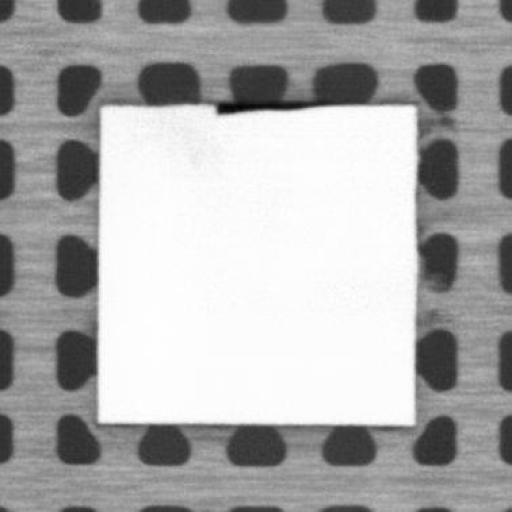DIE_BROKEN: (211, 97, 328, 116)
